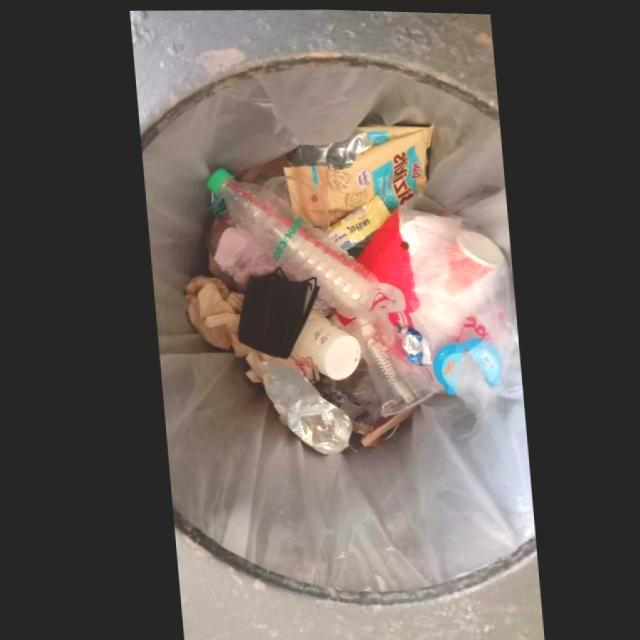cardboard: (286, 306, 357, 378)
food_wrapper: (280, 122, 431, 224), (323, 192, 388, 247), (394, 323, 427, 363)
paper: (180, 272, 247, 355)
plastic_bag: (257, 360, 347, 452)
plastic_bottle: (204, 166, 376, 315)
plastic_container: (338, 305, 435, 414)
